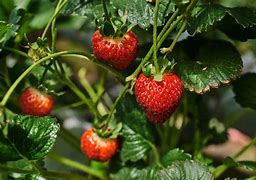Fresa: (133, 67, 186, 129), (88, 25, 139, 72), (80, 124, 122, 163), (18, 85, 56, 117)
